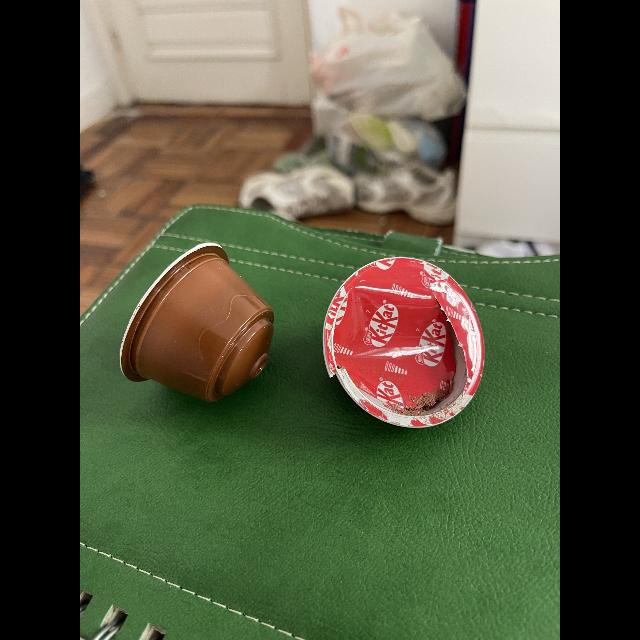damaged_capsule: (322, 252, 482, 436)
intact_capsule: (114, 237, 288, 408)
